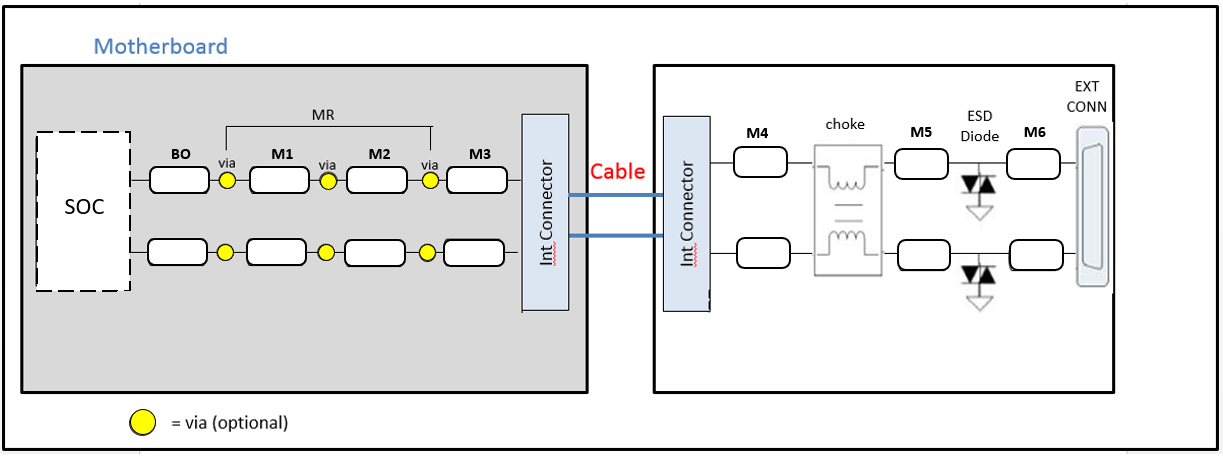choke: (808, 214, 890, 291), (808, 137, 888, 212)
circle: (214, 243, 234, 262), (219, 170, 238, 189), (318, 241, 334, 263)
diode: (960, 166, 1003, 225), (960, 258, 1001, 316)
dotted_rectangle: (31, 127, 138, 303)
oval: (144, 236, 211, 269), (146, 163, 211, 197), (1005, 238, 1066, 272), (895, 236, 952, 272), (735, 237, 793, 272), (345, 164, 409, 195), (730, 147, 788, 181), (445, 166, 508, 197), (345, 238, 408, 269), (1006, 146, 1063, 180), (894, 147, 949, 182), (445, 239, 507, 269), (247, 238, 305, 269), (249, 166, 308, 196)
rectangle: (660, 112, 715, 318), (519, 108, 570, 316), (1073, 124, 1112, 291)
